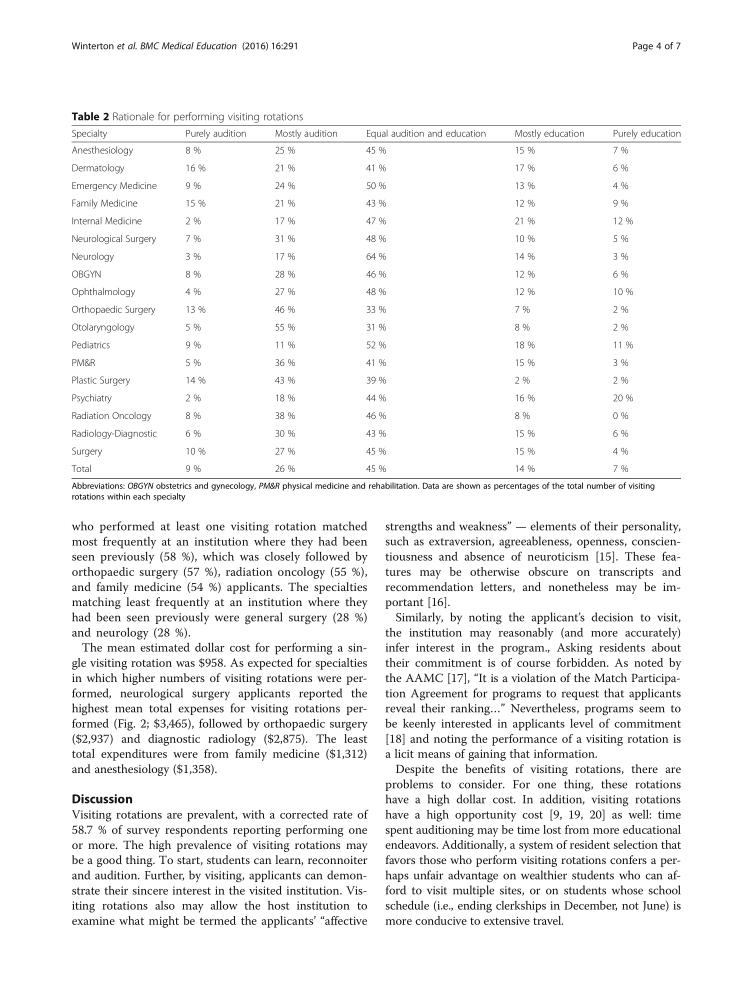table: (71, 128, 680, 474)
